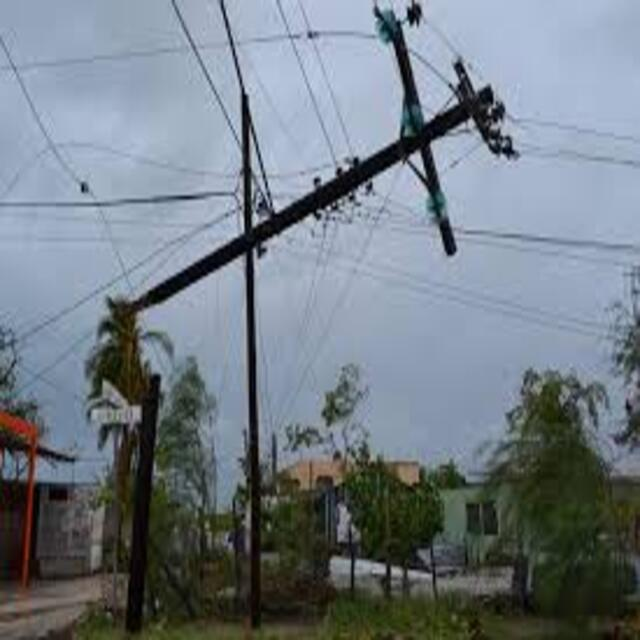Inclined Pole: (111, 0, 525, 632)
